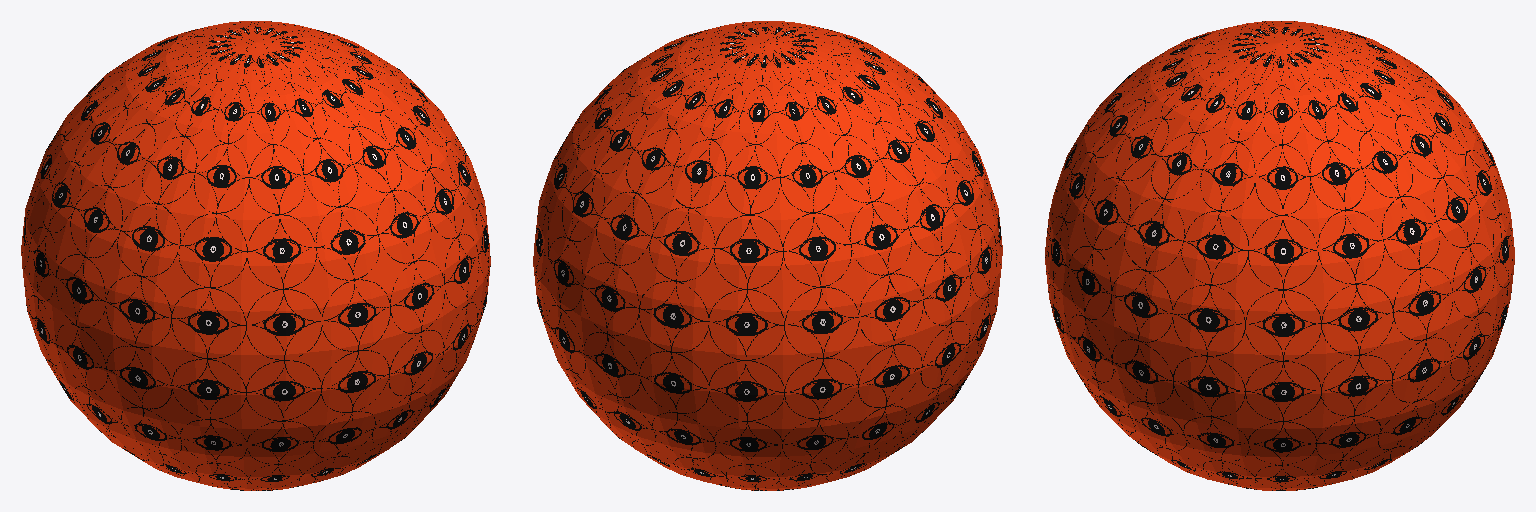
3 views of the same model, side by side, from view 1: azimuth 30°, elevation 25°; view 2: azimuth 150°, elevation 25°; view 3: azimuth 270°, elevation 25° (orthographic).
Parts seen in each view (by area): view 1: Sphere; view 2: Sphere; view 3: Sphere.
Part boxes in pixels (left/top/right/bottom): Sphere: left=21, top=21, right=490, bottom=490; Sphere: left=533, top=21, right=1002, bottom=490; Sphere: left=1045, top=21, right=1514, bottom=490.
Bounding box in the file's own units: 2.19 × 2.19 × 2.19.
1 materials, 1 textured.